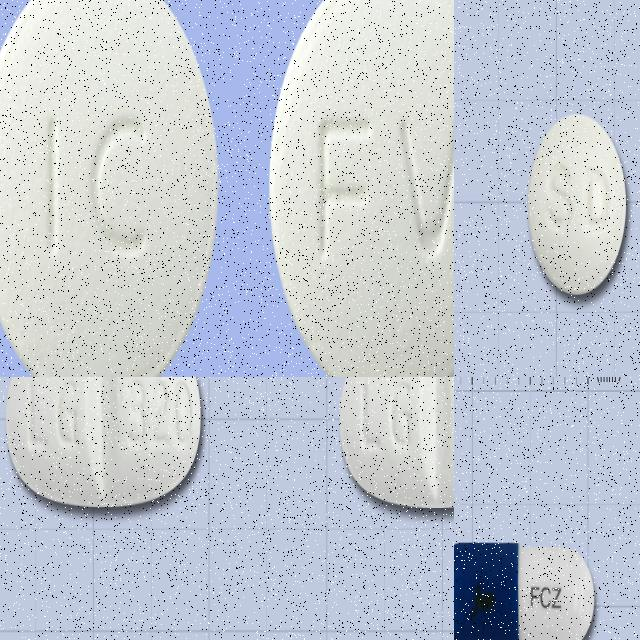Factive: (5, 377, 201, 508), (339, 377, 454, 509)
Famviro: (0, 0, 219, 377), (269, 0, 454, 377)
Levarox: (528, 113, 626, 298)
Oneflu Cap: (454, 540, 596, 640)
